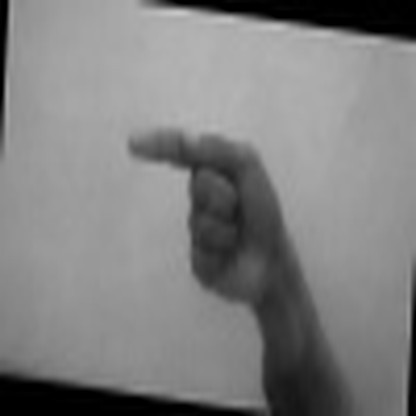g: (113, 114, 301, 298)
